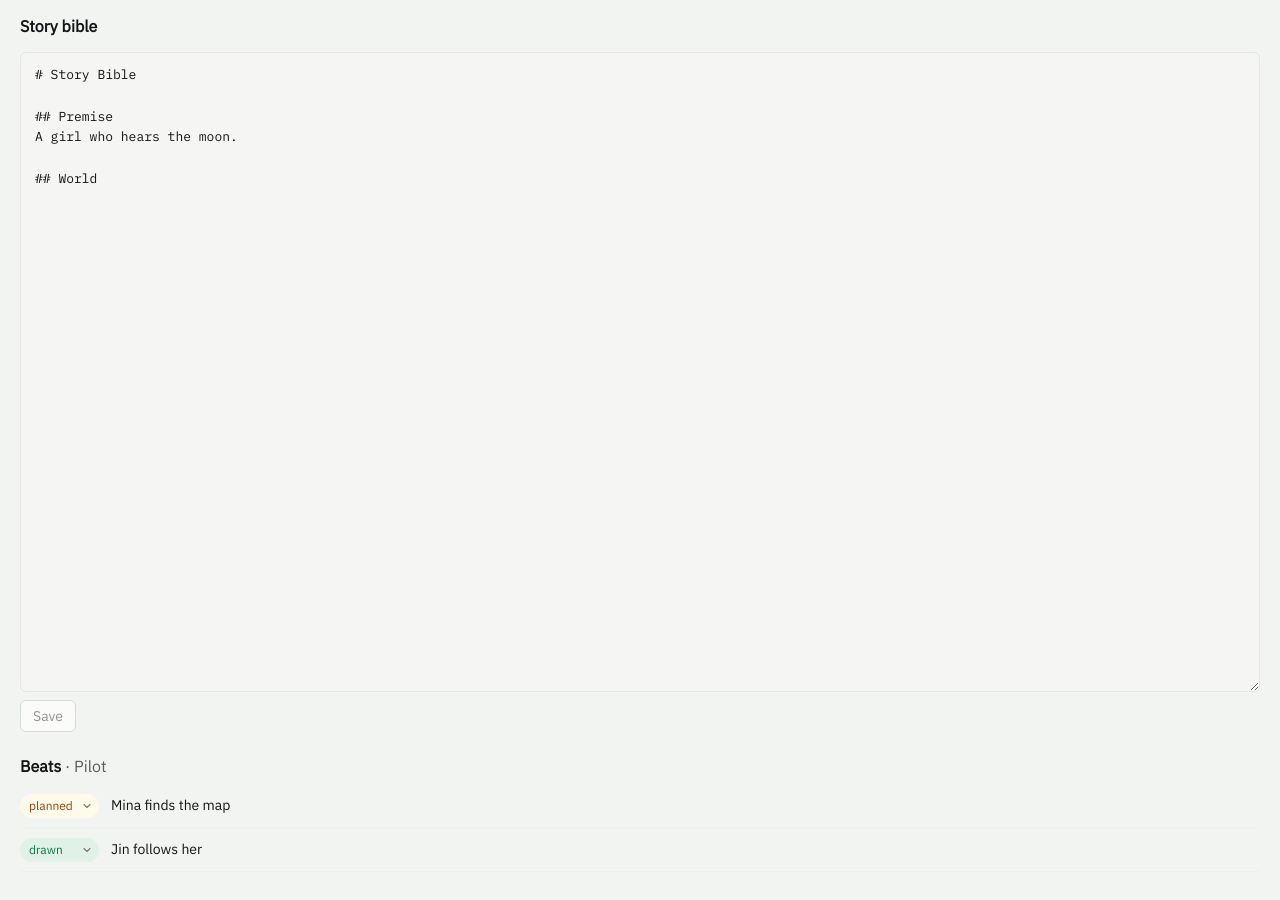
Scenario: StoryTab › saves the edited bible through story:updateBible, and Save is off until something changed
The width and height of the screenshot is (1280, 900).
Expected: the button with test id "bible-save" is disabled, x1=20 y1=700 x2=76 y2=732
In the text box with test id "bible-editor": (640, 372) x1=20 y1=52 x2=1260 y2=692, type "Moon rules."
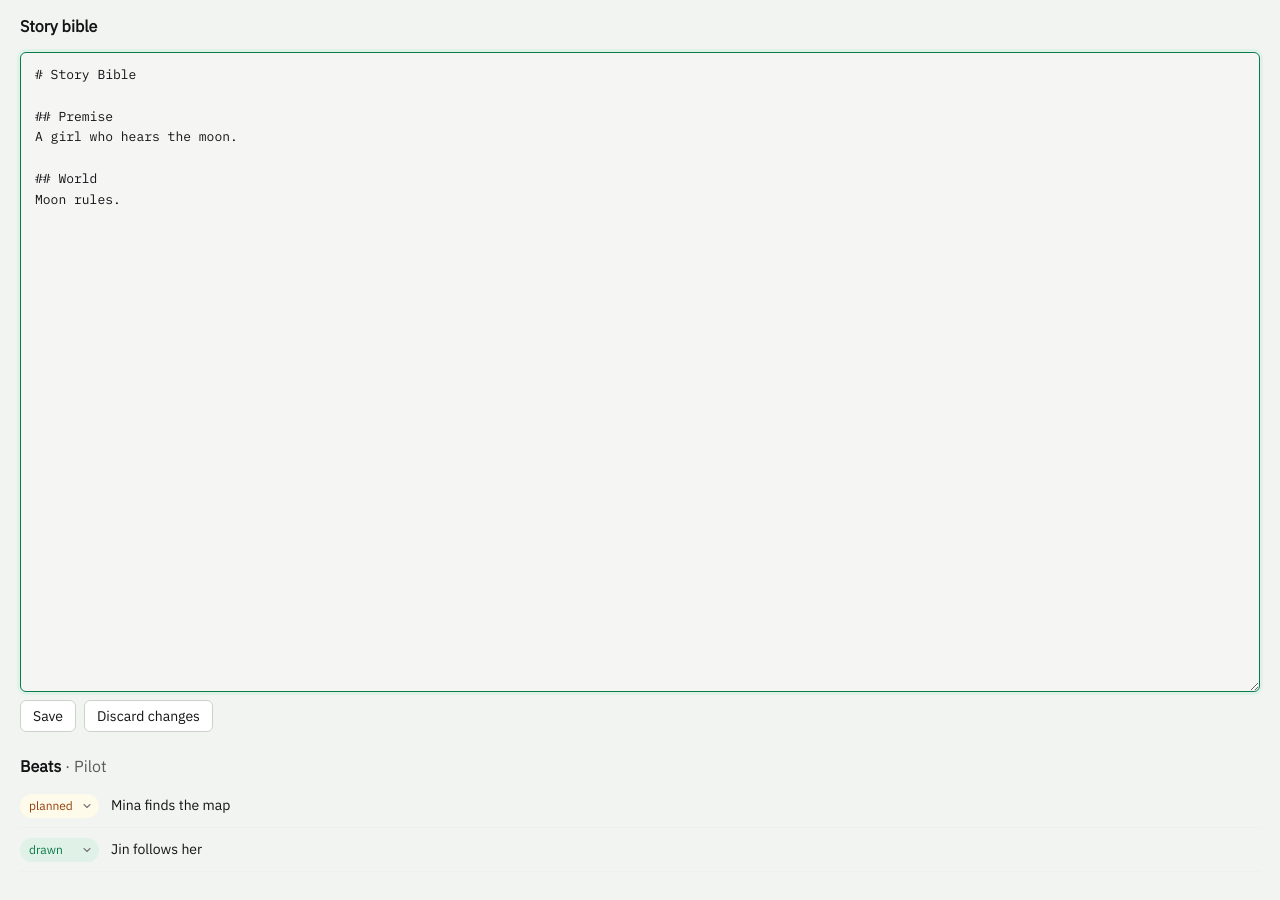
Now the button with test id "bible-save" is enabled
Click the button with test id "bible-save": (48, 716) x1=20 y1=700 x2=76 y2=732
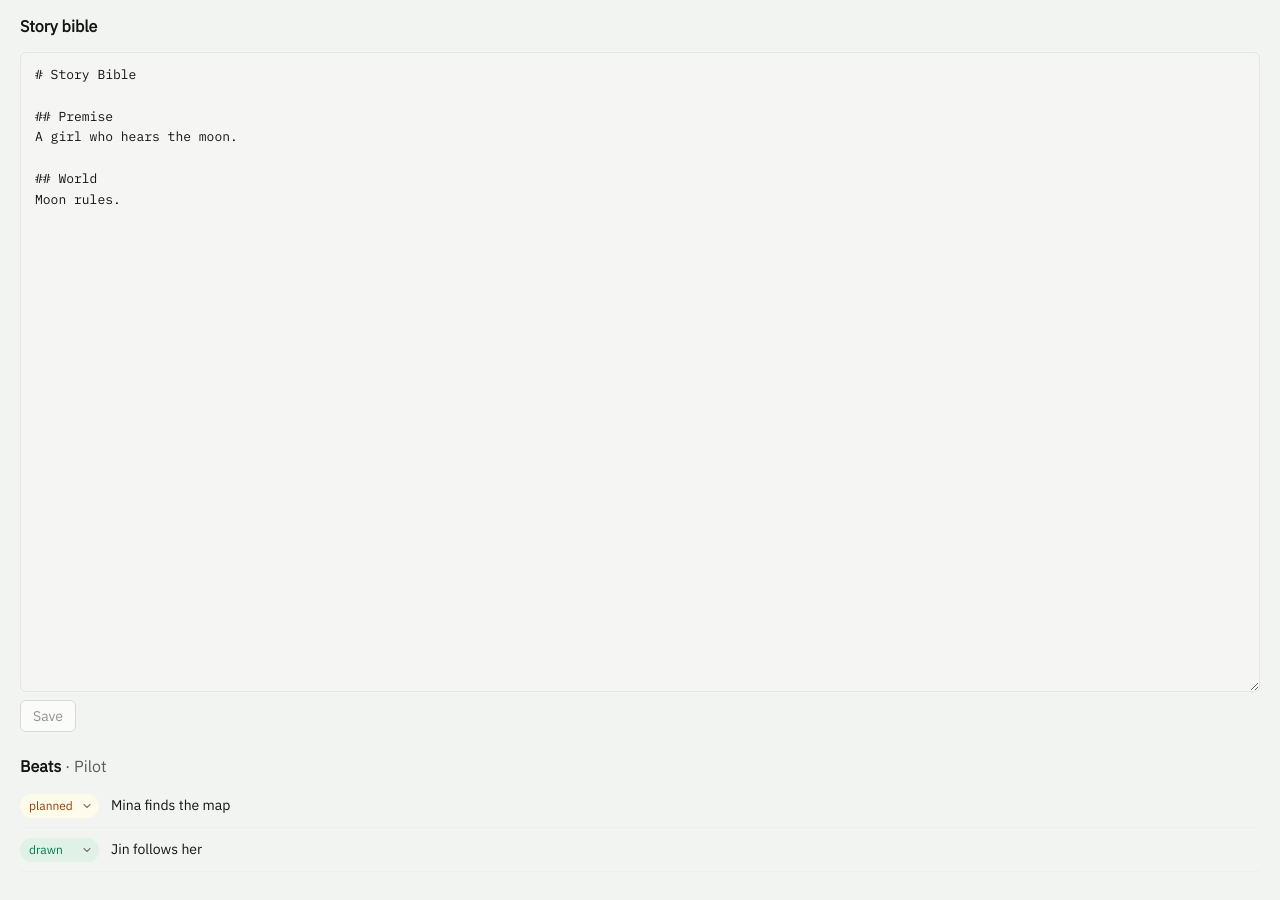
Now the button with test id "bible-save" is disabled, box x1=20 y1=700 x2=76 y2=732
